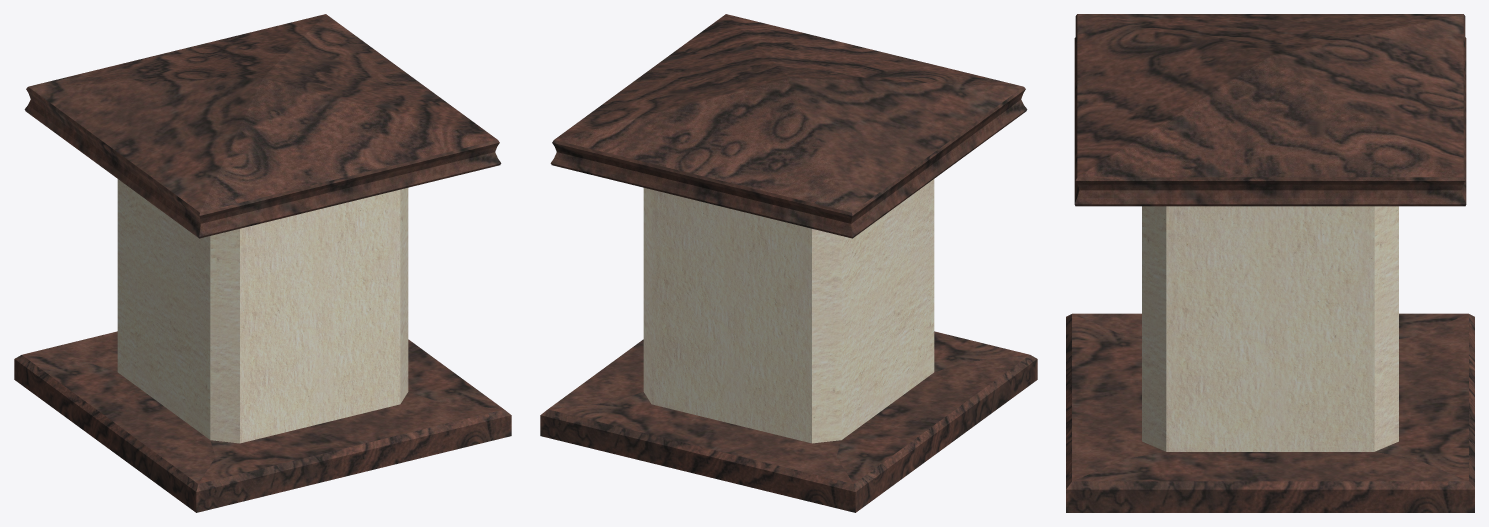
Rendered from Handheld Lantern.glb.
3 views of the same model, side by side, from view 1: azimuth 30°, elevation 25°; view 2: azimuth 150°, elevation 25°; view 3: azimuth 270°, elevation 25° (orthographic). The views are drawn at different scales.
Parts seen in each view (by area): view 1: Lantern; view 2: Lantern; view 3: Lantern.
Part boxes in pixels (x1=…): Lantern: x1=14, y1=14, x2=511, y2=512; Lantern: x1=540, y1=14, x2=1037, y2=512; Lantern: x1=1066, y1=14, x2=1474, y2=512.
Bounding box in the file's own units: 0.3 × 0.3 × 0.3.
Materials: 2 (2 with a texture image).
